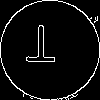T: (25, 25, 56, 71)
